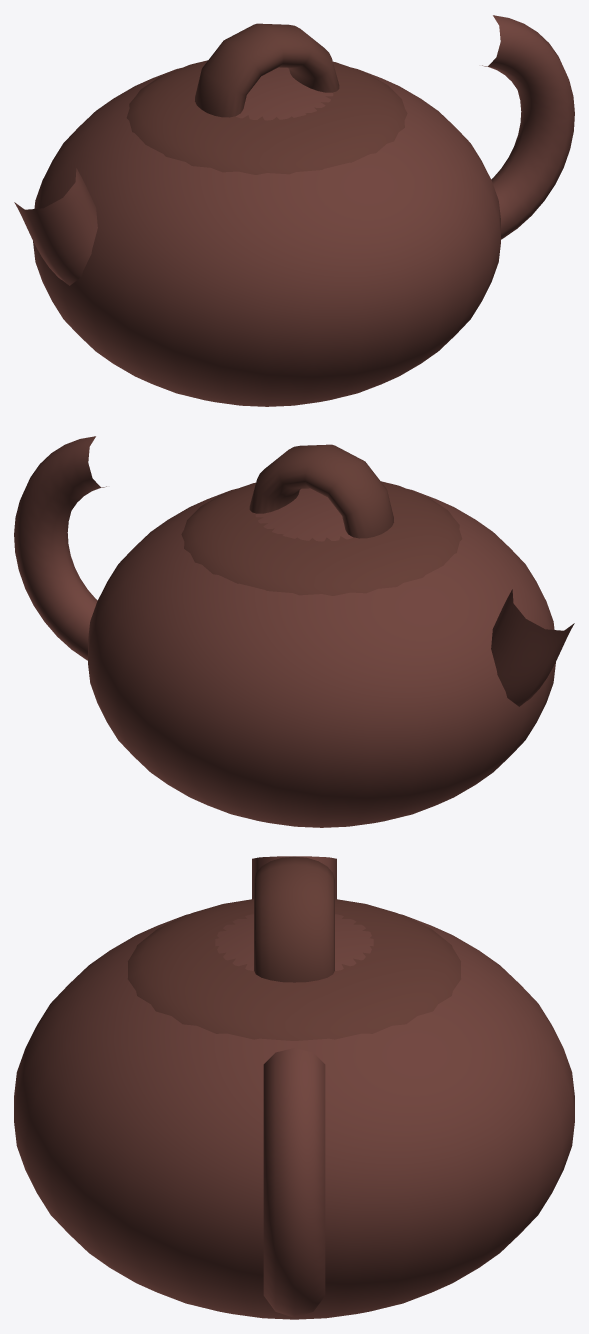
The model's file is huaiyang_prop_teapot.glb.
3 renders of one model, top to bottom at view 1: azimuth 30°, elevation 25°; view 2: azimuth 150°, elevation 25°; view 3: azimuth 270°, elevation 25°, orthographic. The views are drawn at different scales.
Bounding box in the file's own units: 0.2239 × 0.1352 × 0.1645.
